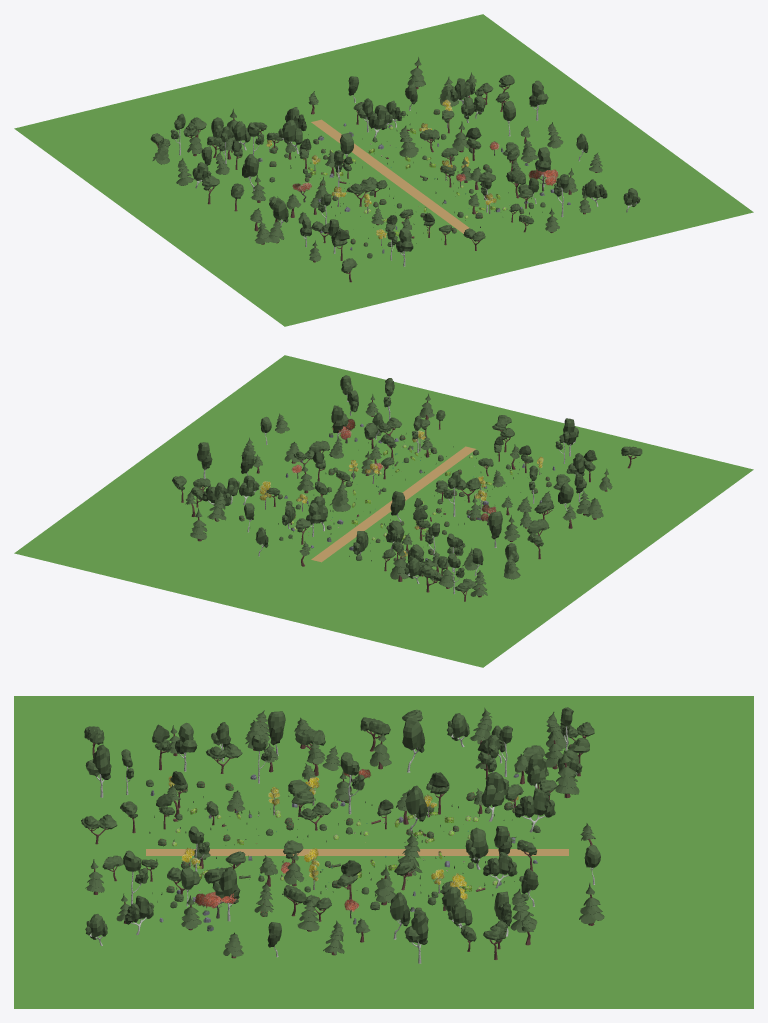
File: env_forest.glb
3 renders of one model, top to bottom at view 1: azimuth 30°, elevation 25°; view 2: azimuth 150°, elevation 25°; view 3: azimuth 270°, elevation 25°, orthographic. The views are drawn at different scales.
Parts seen in each view (by area): view 1: ground, path; view 2: ground, path; view 3: ground, BirchTree_3 (×4), path, BirchTree_4 (×3), BirchTree_1 (×3), BirchTree_2 (×3), PineTree_2 (×2), BirchTree_5 (×2), PineTree_3, CommonTree_1.
Part boxes in pixels (x1,y1,x2,y2): ground: (14,14,753,326); path: (311,119,469,233); ground: (14,355,753,667); path: (311,446,475,562); ground: (14,696,753,1008); BirchTree_3 (×4): (85,722,428,963); path: (146,849,568,855); BirchTree_4 (×3): (125,788,555,935); BirchTree_1 (×3): (465,753,547,869); BirchTree_2 (×3): (390,717,426,939); PineTree_2 (×2): (555,750,604,925); BirchTree_5 (×2): (123,752,364,905); PineTree_3: (510,889,537,932); CommonTree_1: (288,779,313,816).
Bounding box in the file's own units: 140 × 12.57 × 140.
Materials: 18 (6 with a texture image).
